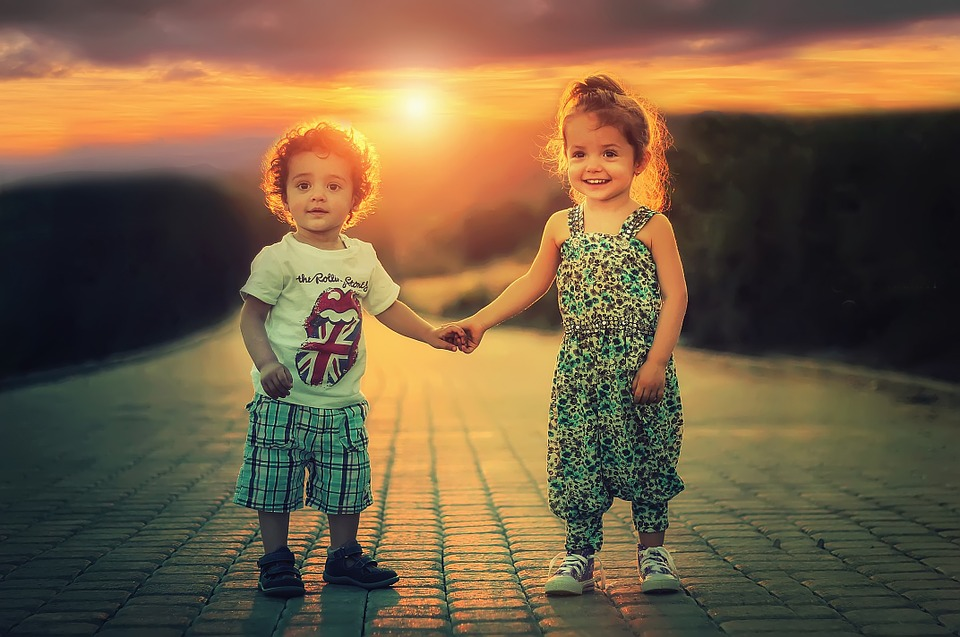person: (272, 86, 643, 625), (453, 76, 736, 618), (362, 171, 709, 613), (528, 72, 680, 425), (547, 109, 662, 387), (255, 134, 385, 377), (236, 206, 340, 407), (527, 141, 621, 359), (253, 235, 366, 412), (560, 71, 653, 257), (569, 89, 628, 182), (285, 271, 344, 361), (306, 272, 366, 352), (275, 280, 354, 338), (292, 293, 361, 359), (283, 267, 362, 324), (260, 309, 330, 366), (300, 279, 372, 333), (573, 222, 631, 288), (574, 241, 631, 308), (593, 223, 648, 290), (287, 302, 337, 374), (298, 315, 350, 384), (594, 241, 646, 309), (571, 194, 629, 254), (587, 215, 659, 263), (286, 315, 356, 363), (612, 221, 659, 292), (569, 217, 641, 263), (614, 239, 660, 311), (271, 299, 315, 373), (554, 228, 616, 280), (255, 301, 297, 376), (284, 337, 350, 383), (565, 237, 604, 312), (337, 273, 376, 347), (555, 218, 615, 265), (317, 316, 359, 382), (617, 248, 669, 299), (280, 354, 344, 394), (266, 337, 310, 394), (618, 256, 657, 319), (539, 217, 588, 266), (294, 343, 335, 398), (567, 253, 598, 318), (545, 251, 587, 298), (246, 298, 275, 362), (303, 353, 350, 391), (257, 366, 296, 407), (247, 317, 275, 372), (249, 363, 286, 404), (260, 399, 290, 449), (257, 374, 291, 418), (553, 268, 586, 311), (246, 402, 271, 451), (248, 378, 278, 416), (264, 546, 292, 584), (636, 531, 663, 570), (249, 345, 276, 383), (541, 270, 568, 308), (273, 546, 299, 583), (297, 458, 319, 501), (570, 542, 594, 580), (249, 391, 273, 429), (298, 448, 321, 487), (632, 521, 656, 557), (559, 291, 583, 325), (434, 321, 461, 350), (631, 552, 654, 586), (636, 553, 660, 585), (931, 603, 955, 635), (299, 476, 320, 512), (549, 292, 571, 325), (348, 600, 373, 629), (262, 598, 287, 627), (269, 538, 291, 569), (442, 324, 467, 350), (447, 325, 471, 352), (574, 541, 595, 571), (619, 603, 642, 630), (331, 124, 350, 155), (362, 603, 384, 628), (79, 605, 101, 630), (690, 605, 712, 630), (92, 606, 114, 629), (930, 613, 954, 633), (705, 606, 725, 629), (437, 607, 456, 628), (450, 607, 469, 628), (333, 118, 346, 140), (819, 536, 832, 553), (814, 532, 826, 547), (770, 535, 782, 550), (796, 522, 808, 536), (816, 535, 827, 550), (820, 534, 831, 549), (811, 532, 821, 547), (812, 529, 823, 542), (804, 526, 814, 538), (809, 521, 819, 532)
